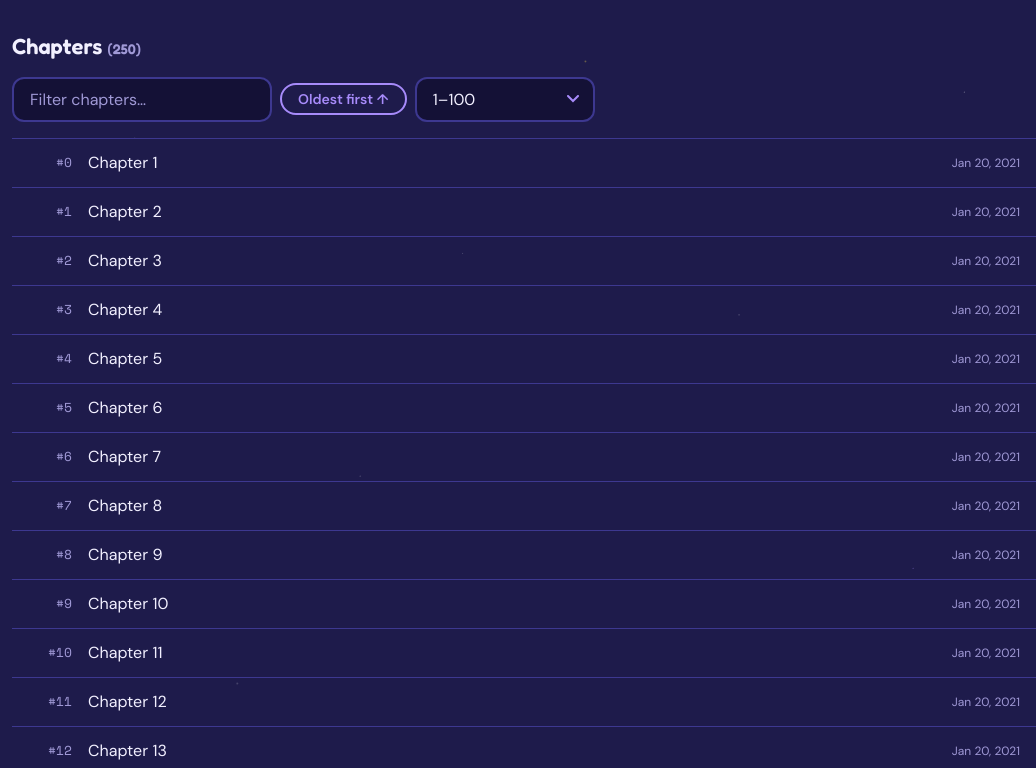
Scenario: ChapterList › offers page ranges and jumps to the selected window
Select "201–250" in the dropdown named "Chapter page": (505,99) [415,77,595,122]
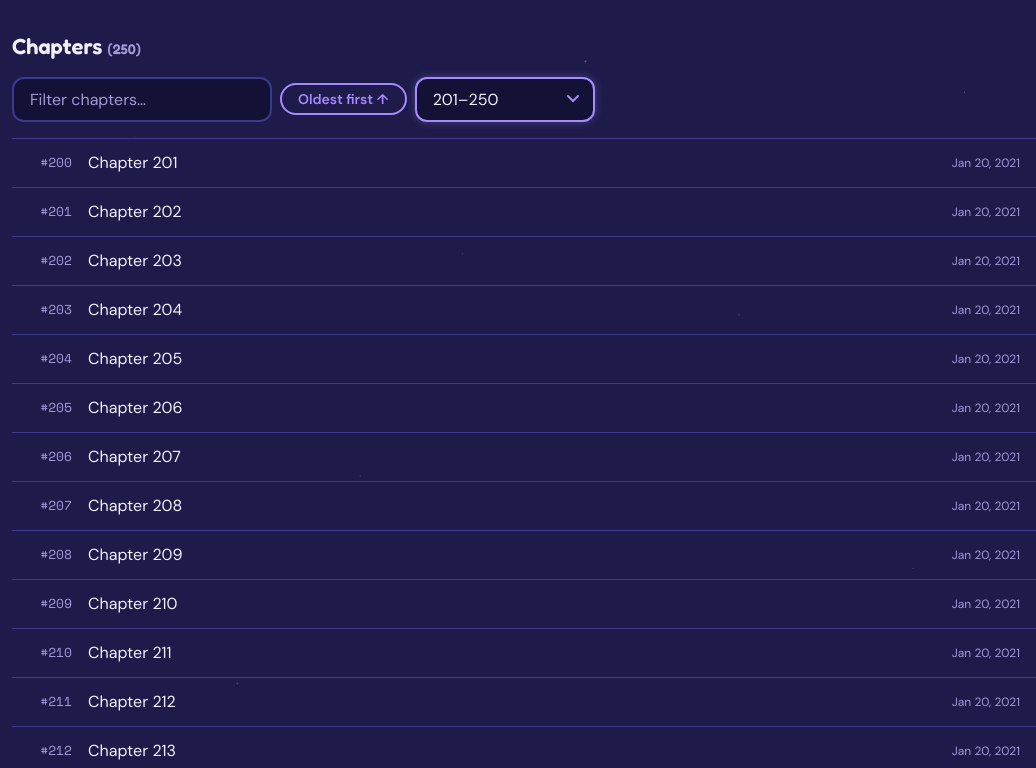
Now the number of list items is 50
Now the list item "#200 Chapter 201 Jan 20, 2021" is shown, box [12,139,1035,188]
